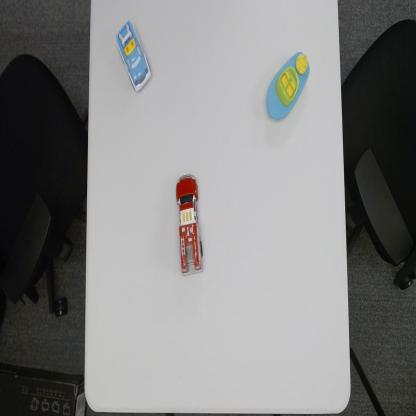Boat: (265, 48, 311, 123)
Car: (114, 17, 153, 97)
Firetruck: (175, 172, 204, 276)
